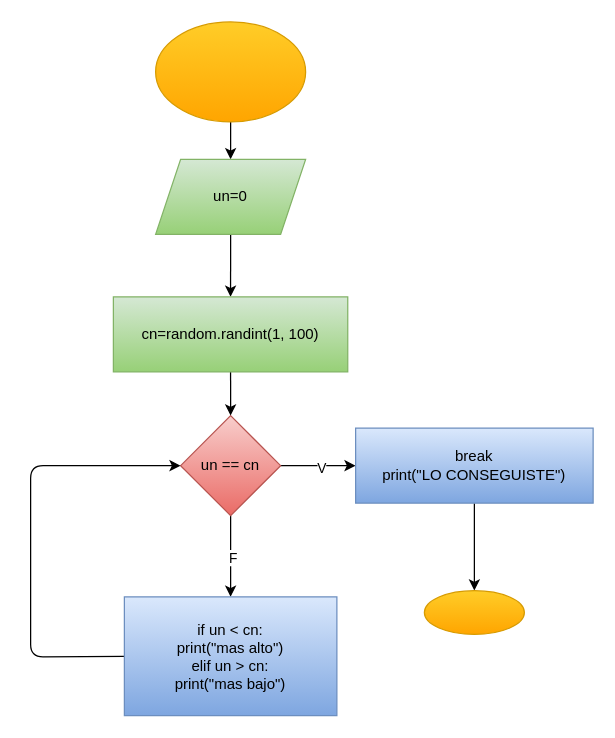
This 615x738 diagram has some shape labels left out. Each missing label, with the box of its shape:
FIN: (423, 589, 524, 634)
inicio: (154, 21, 306, 122)
